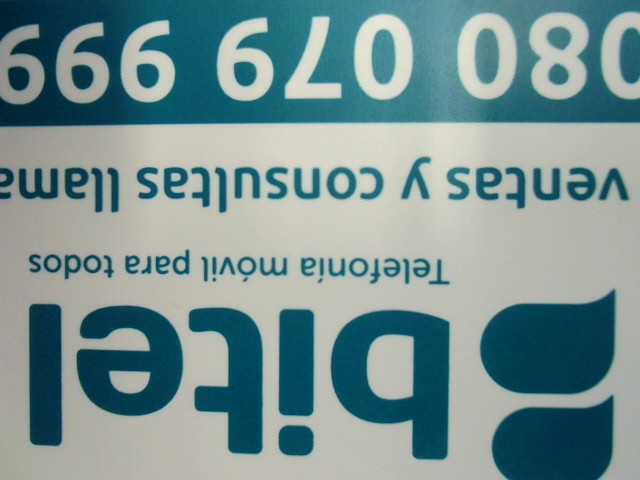BE_bitel: (19, 285, 622, 478)
